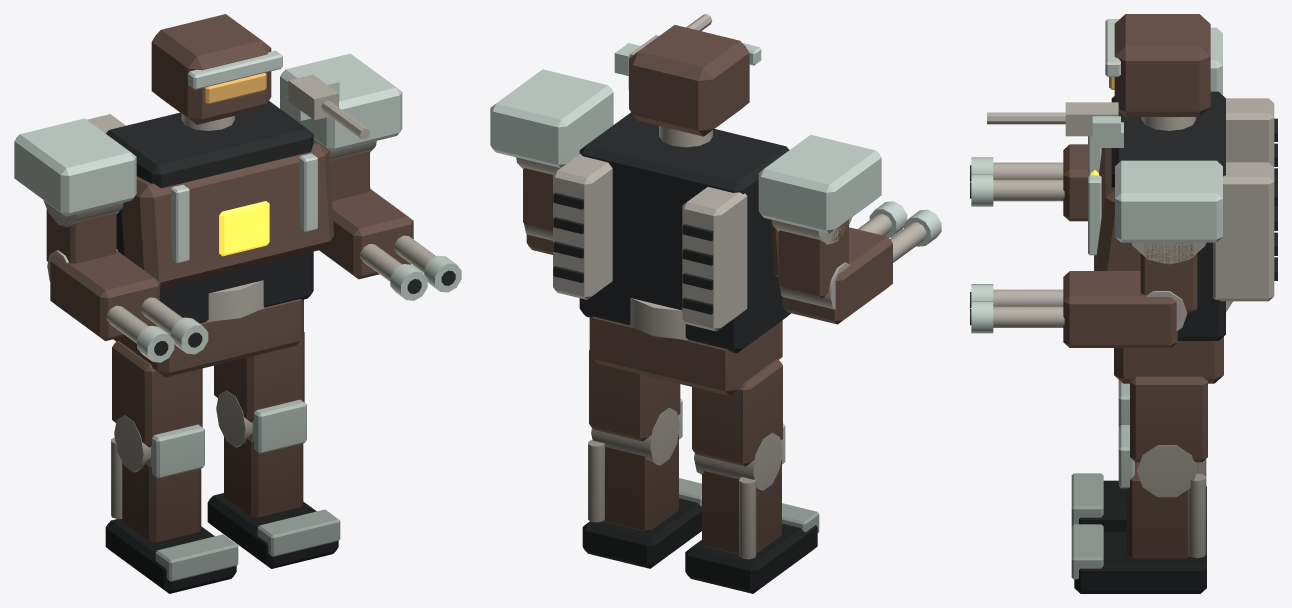
Rendered from ironvanguard.glb.
The picture shows the model from 3 angles, left to right: view 1: azimuth 30°, elevation 25°; view 2: azimuth 150°, elevation 25°; view 3: azimuth 270°, elevation 25°; orthographic projection. The views are drawn at different scales.
Visible parts, largest first — view 1: Sloped breastplate, Torso skeleton, Thigh armor, Shoulder plate, Thigh armor.001, Upper arm, Shoulder plate.001, Upper arm.001, Pelvic armor, Hip bearing.001, Hip bearing, Chest armor rib (+11 smaller); view 2: Torso skeleton, Back power unit, Thigh armor, Sloped breastplate, Thigh armor.001, Shoulder plate, Shoulder plate.001, Pelvic armor, Upper arm, Armored foot, Armored foot.001, Knee servo (+7 smaller); view 3: Sloped breastplate, Back power unit, Upper arm.001, Thigh armor.001, Shoulder plate.001, Torso skeleton, Armored foot.001, Shoulder bearing.001, Knee servo.001, Pelvic armor, Shoulder bearing, Hip bearing.001 (+7 smaller).
Part boxes in pixels (box(x1,y1,x2,y2)): Sloped breastplate: box(121, 14, 333, 288); Torso skeleton: box(106, 101, 313, 331); Thigh armor: box(112, 341, 202, 543); Shoulder plate: box(14, 118, 208, 362); Thigh armor.001: box(214, 332, 304, 518); Upper arm: box(46, 208, 160, 340); Shoulder plate.001: box(280, 53, 461, 300); Upper arm.001: box(319, 151, 413, 279); Pelvic armor: box(114, 299, 303, 377); Hip bearing.001: box(252, 399, 340, 556); Hip bearing: box(151, 424, 238, 581); Chest armor rib: box(171, 50, 317, 263); Torso skeleton: box(553, 112, 790, 353); Back power unit: box(553, 126, 747, 331); Thigh armor: box(692, 359, 782, 554); Sloped breastplate: box(629, 25, 778, 277); Thigh armor.001: box(589, 350, 680, 531); Shoulder plate: box(758, 135, 941, 246); Shoulder plate.001: box(490, 69, 613, 167); Pelvic armor: box(589, 316, 782, 395); Upper arm: box(778, 220, 892, 324); Armored foot: box(685, 523, 817, 593); Armored foot.001: box(582, 498, 701, 568); Knee servo: box(694, 432, 782, 559); Sloped breastplate: box(1094, 14, 1210, 270); Back power unit: box(1141, 98, 1274, 301); Upper arm.001: box(1063, 243, 1197, 347); Thigh armor.001: box(1127, 376, 1207, 559); Shoulder plate.001: box(971, 160, 1222, 333); Torso skeleton: box(1111, 91, 1277, 340); Armored foot.001: box(1074, 531, 1206, 593); Shoulder bearing.001: box(993, 242, 1205, 330); Knee servo.001: box(1137, 445, 1206, 558); Pelvic armor: box(1114, 336, 1223, 383); Shoulder bearing: box(993, 162, 1064, 201); Hip bearing.001: box(1071, 425, 1134, 579).
Size of the model in its own units: 3.98 by 5.67 by 3.03.
